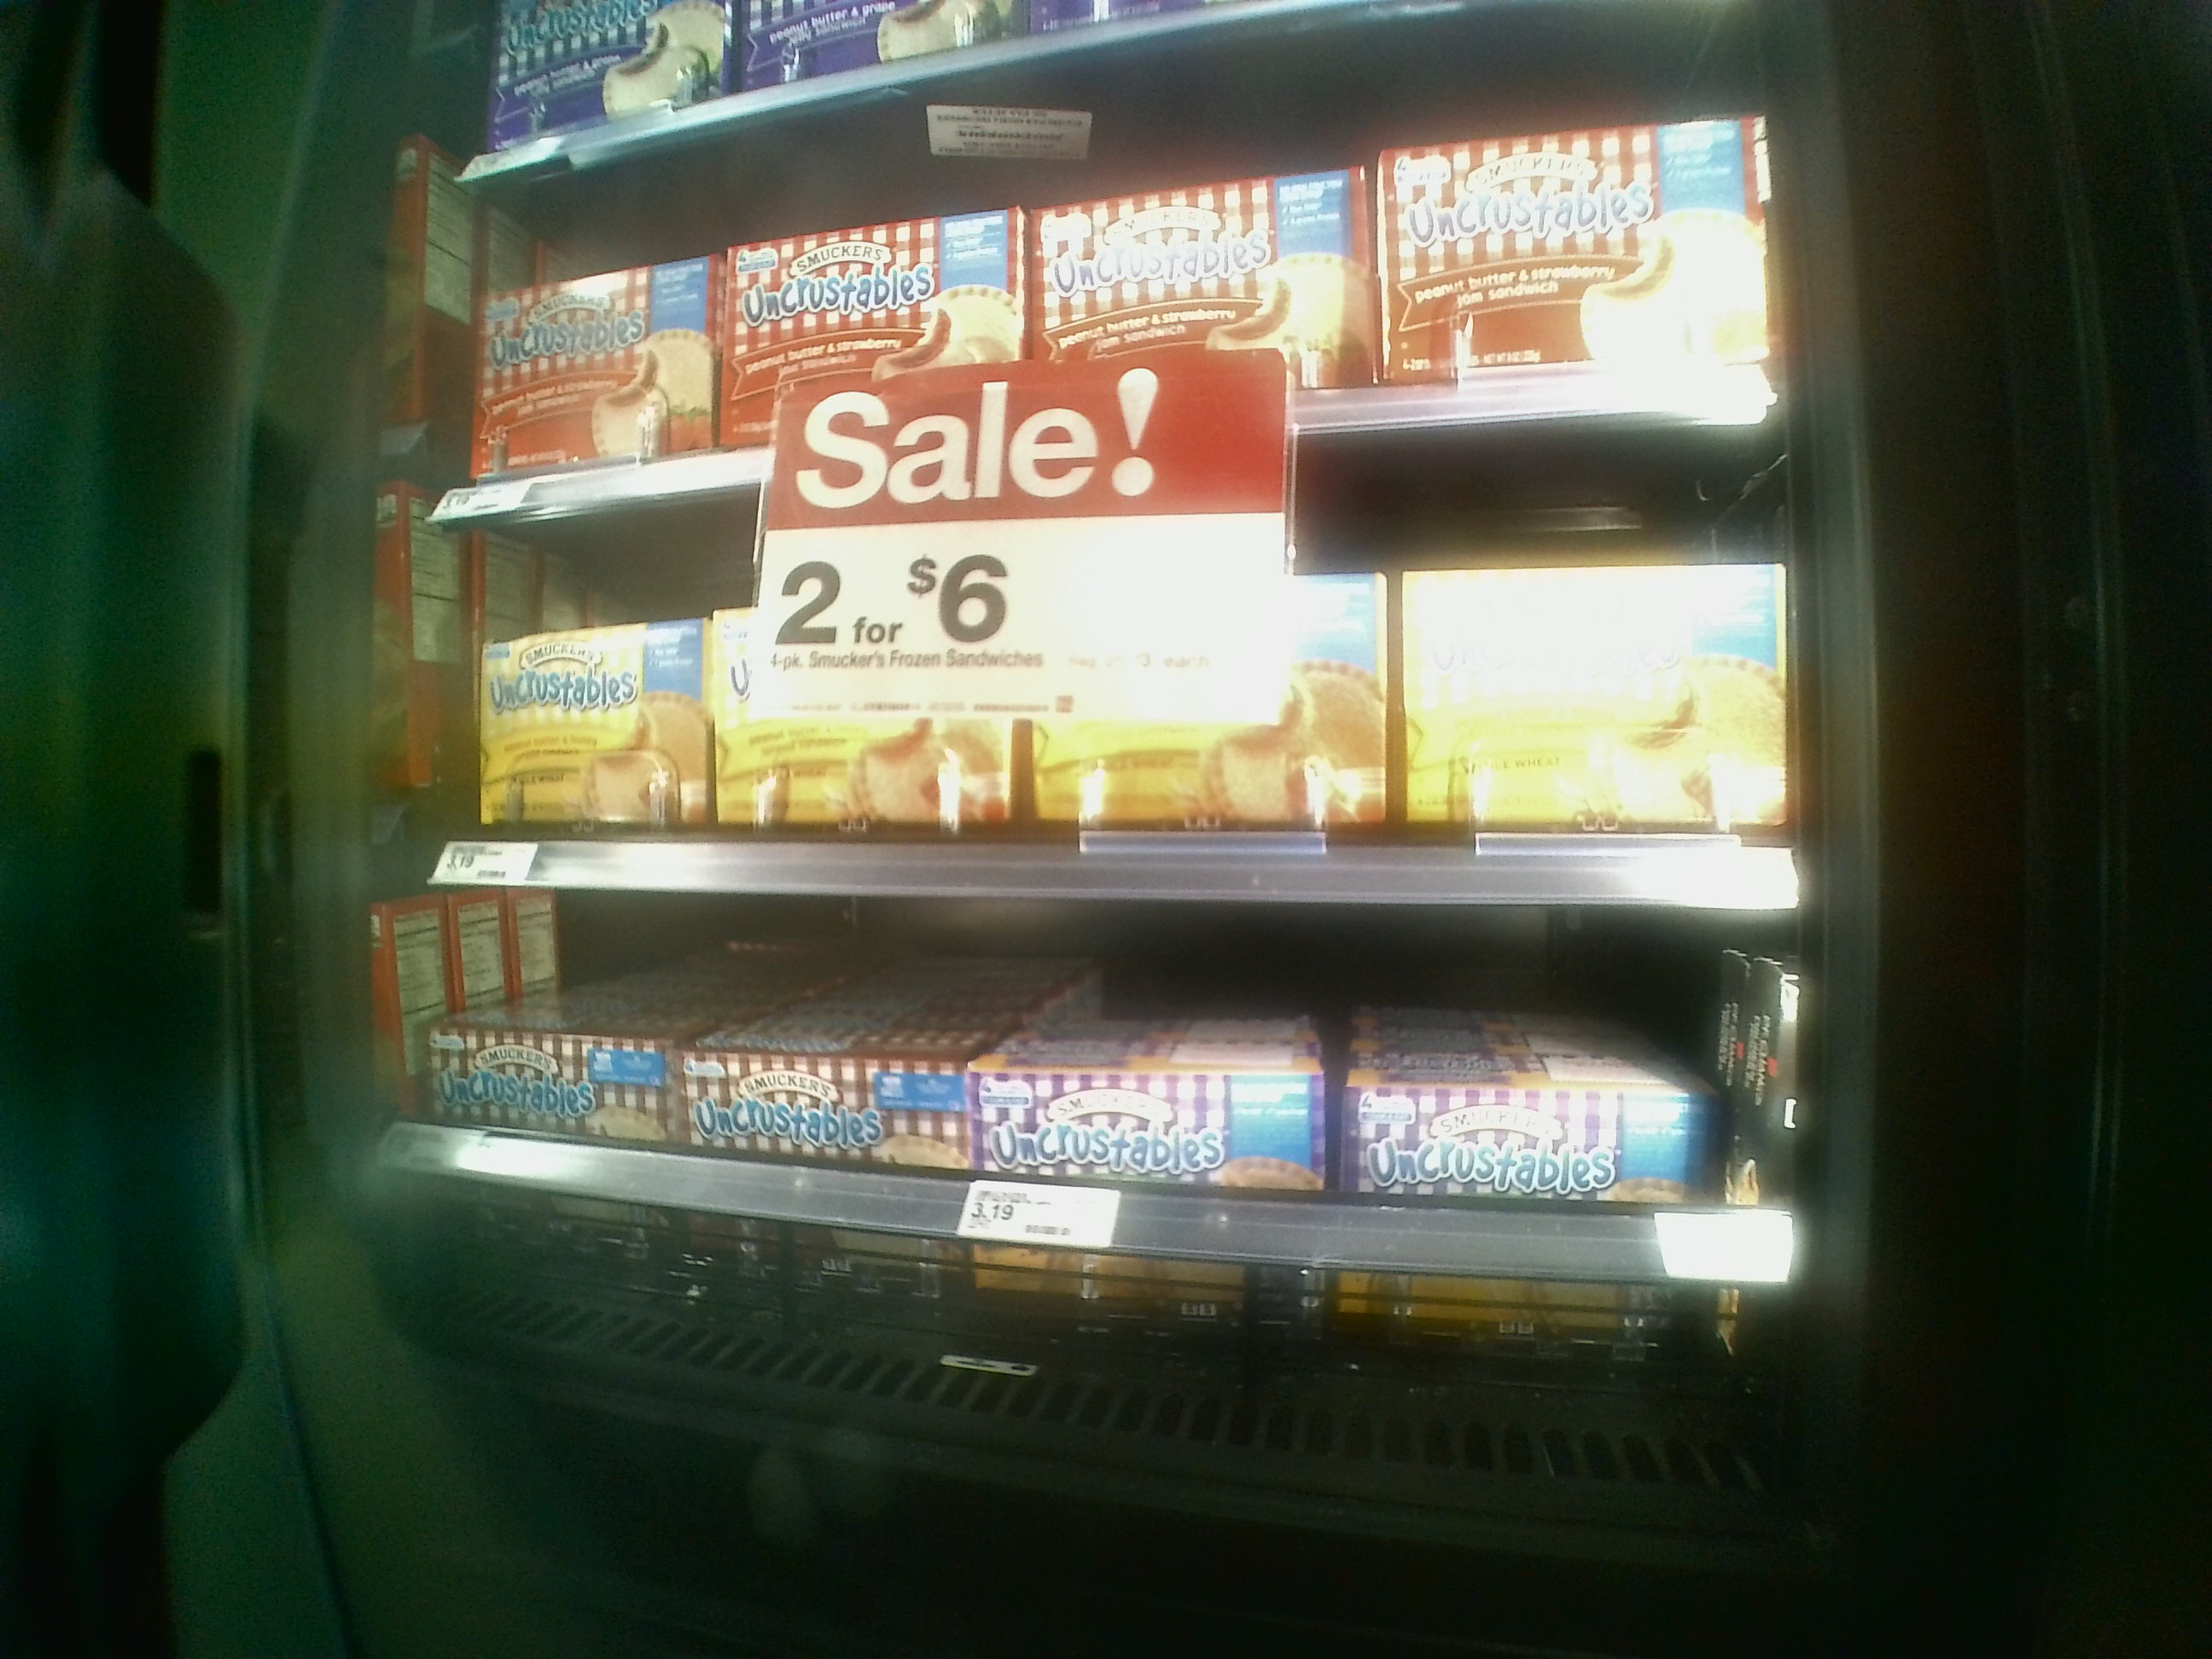shelf: (413, 894, 1820, 1352), (430, 491, 1810, 913)
